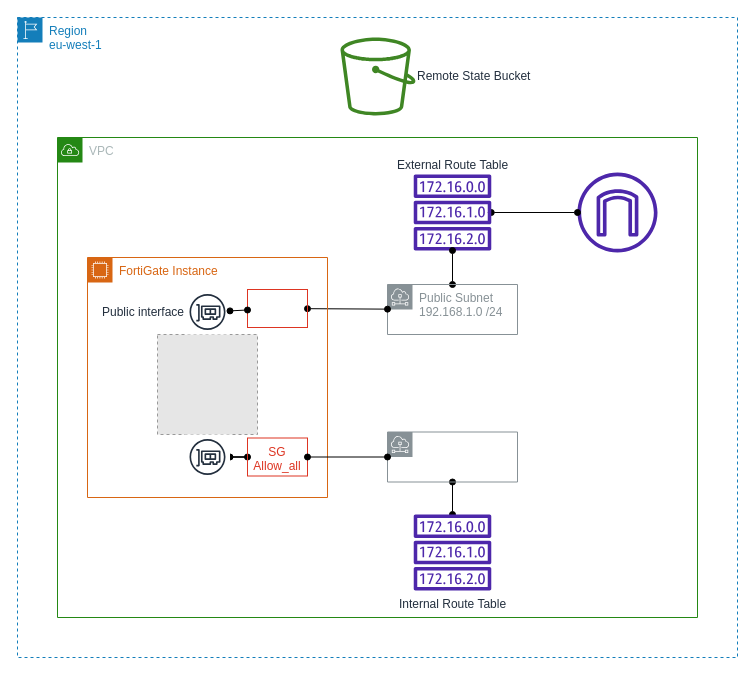
The diagram is 755 pixels wide and 675 high, and some of its shapes have lost their labels. Grey dashed boxes stand in for pictures. The shapes that lost their labels are listed below. From the top down, each one's centre as x and y in pixels, then its label:
pixel 617 212: Internet Gateway
pixel 277 308: SG External
pixel 207 457: Private interface
pixel 452 456: Private Subnet 192.168.2.0 /24
